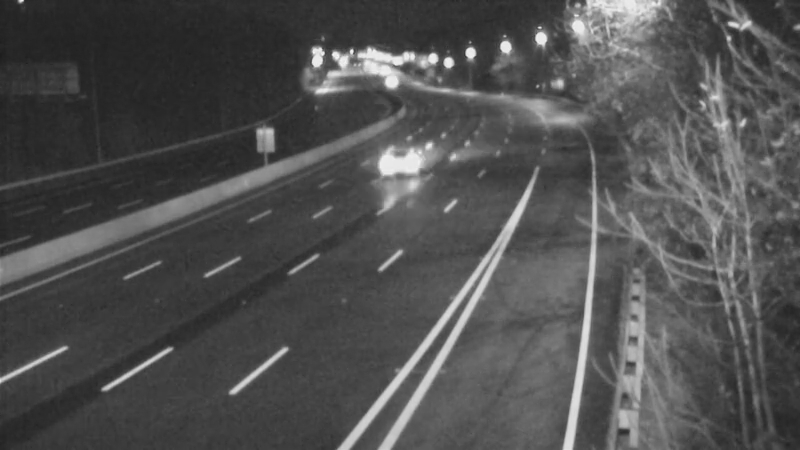vehicle: (360, 124, 440, 204), (362, 58, 412, 108)
